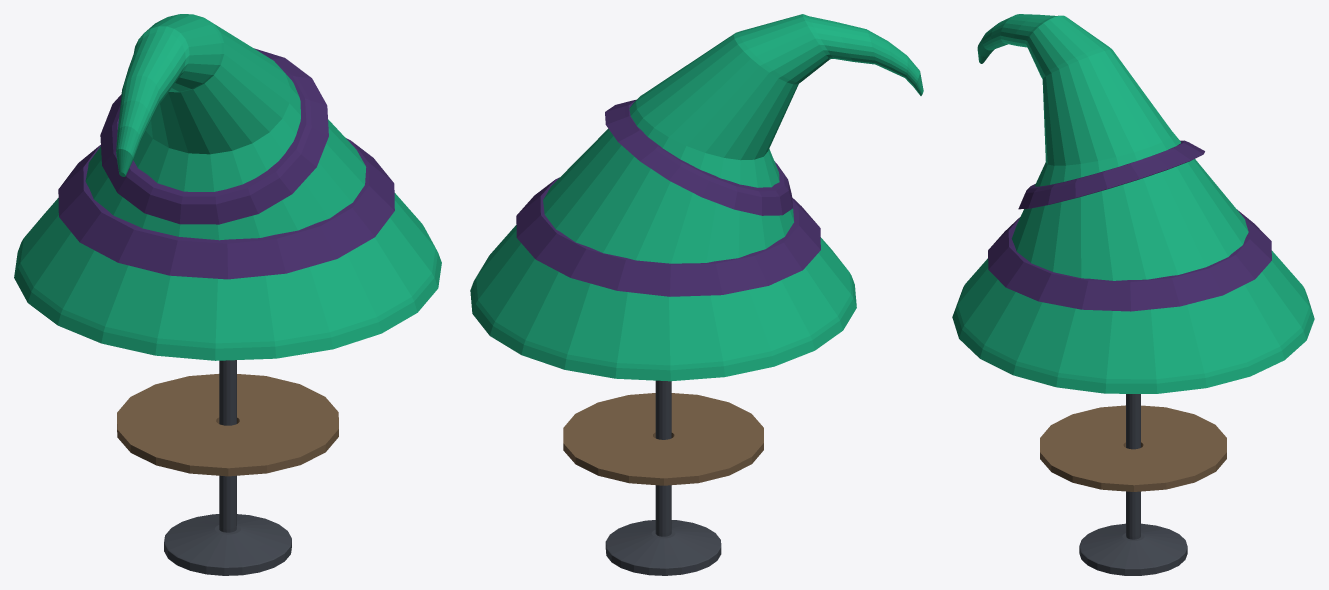
The model's file is WazardTable_Green.fbx.
3 renders of one model, left to right at view 1: azimuth 30°, elevation 25°; view 2: azimuth 150°, elevation 25°; view 3: azimuth 270°, elevation 25°, orthographic. The views are drawn at different scales.
Visible parts, largest first — view 1: WazardTable_Green; view 2: WazardTable_Green; view 3: WazardTable_Green.
Part boxes in pixels (x1,y1,x2,y2): WazardTable_Green: [14, 14, 441, 575]; WazardTable_Green: [470, 14, 923, 575]; WazardTable_Green: [952, 14, 1314, 575].
Bounding box in the file's own units: 520 × 758 × 506.
